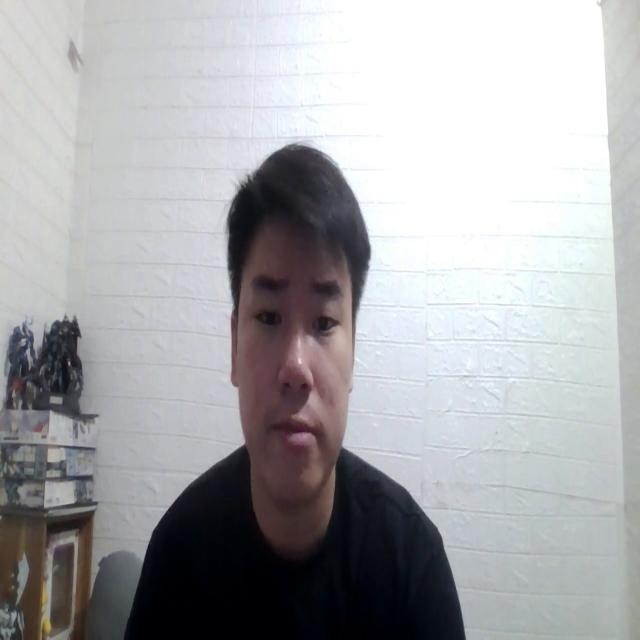student: (116, 139, 463, 640)
